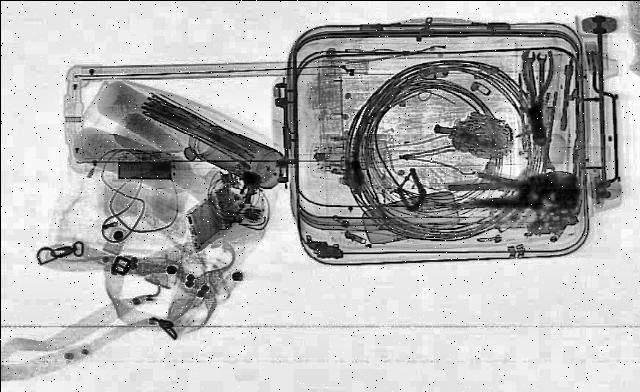Pliers: (518, 49, 556, 131)
Wrench: (518, 52, 536, 82), (535, 52, 545, 82)
